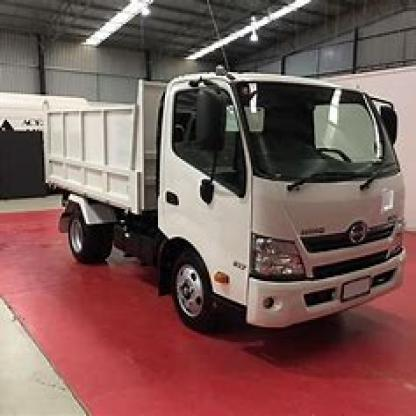dump_truck: (37, 57, 414, 355)
